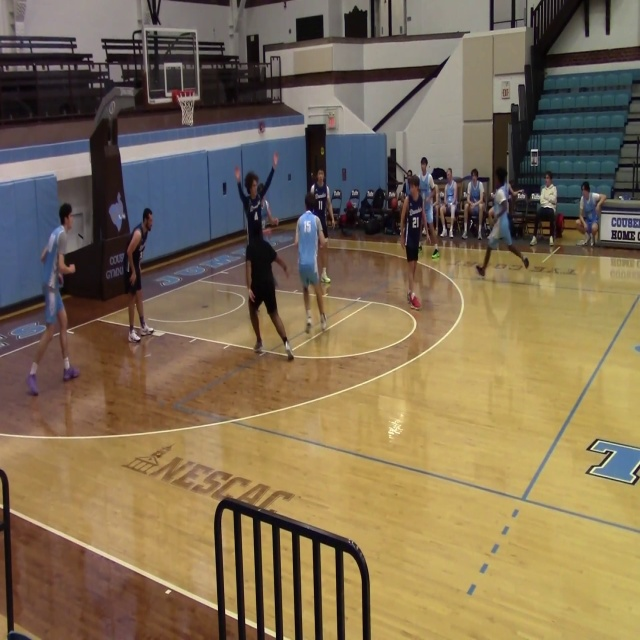Basketball: (234, 166, 240, 181), (258, 122, 265, 133), (431, 251, 440, 259), (273, 152, 278, 165), (617, 196, 623, 200)
